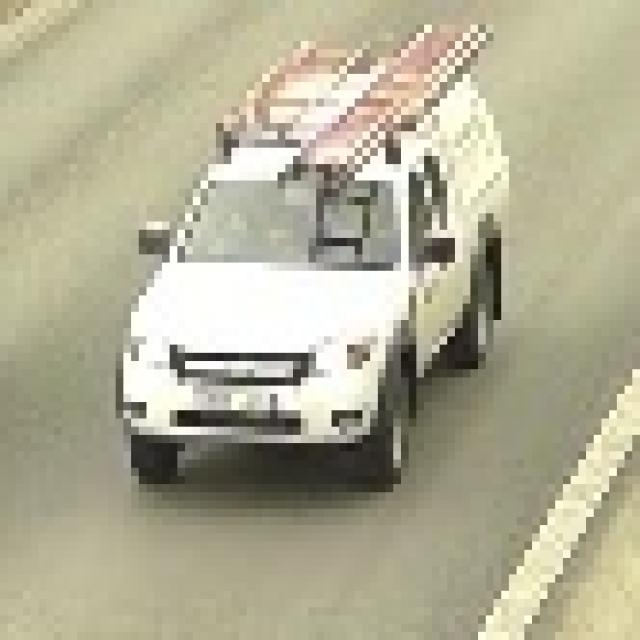CMT: (129, 121, 476, 484)
